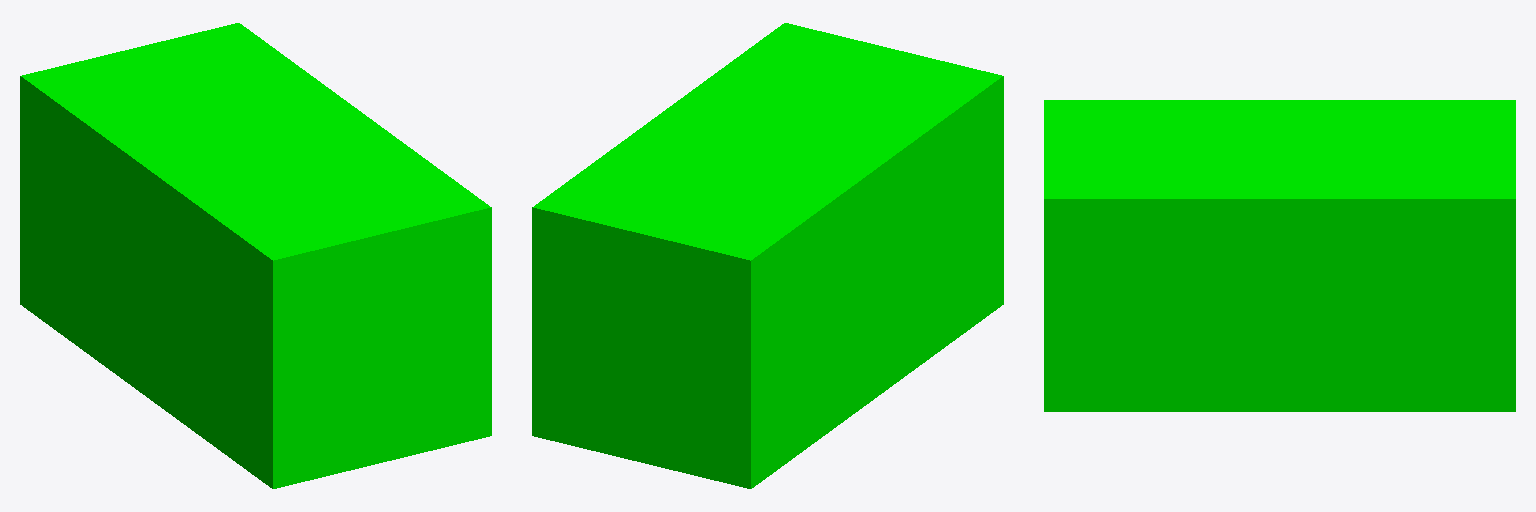
URDF robot description (dji_m100):
<?xml version='1.0' encoding='UTF-8'?>
<robot name="dji_m100">
  <link name="hab_m100_base_link">
    <inertial>
      <origin xyz="0.0 0.0 0.0" rpy="0.0 -0.0 0.0"/>
      <mass value="0.0"/>
      <inertia ixx="0.0" ixy="0.0" ixz="0.0" iyy="0.0" iyz="0.0" izz="0.0"/>
    </inertial>
  </link>
  <link name="m100_base_link">
    <inertial>
      <origin xyz="0.0 0.0 0.0" rpy="0.0 -0.0 0.0"/>
      <mass value="2.355"/>
      <inertia ixx="0.0368" ixy="0.0" ixz="0.0" iyy="0.0368" iyz="0.0" izz="0.06792"/>
    </inertial>
    <visual>
      <geometry>
        <mesh filename="../meshes/dji_m100.dae" scale="0.5 0.5 0.5"/>
      </geometry>
      <material name="mat_0_0"/>
      <origin xyz="0.0 0.0 0.0525" rpy="0.0 -0.0 0.0"/>
    </visual>
    <collision>
      <geometry>
        <mesh filename="../meshes/dji_m100.dae" scale="0.5 0.5 0.5"/>
      </geometry>
      <origin xyz="0.0 0.0 0.0525" rpy="0.0 -0.0 0.0"/>
    </collision>
  </link>
  <link name="led_link">
    <inertial>
      <origin xyz="0.0 0.0 0.0" rpy="0.0 -0.0 0.0"/>
      <mass value="0.001"/>
      <inertia ixx="0.0" ixy="0.0" ixz="0.0" iyy="0.0" iyz="0.0" izz="0.0"/>
    </inertial>
    <visual>
      <geometry>
        <box size="0.0125 0.0125 0.025 "/>
      </geometry>
      <material name="mat_1_0"/>
      <origin xyz="-0.05 0.0 0.05" rpy="0.0 -0.0 0.0"/>
    </visual>
    <collision>
      <geometry>
        <box size="0.0125 0.0125 0.0125"/>
      </geometry>
      <origin xyz="-0.05 0.0 0.05" rpy="0.0 -0.0 0.0"/>
    </collision>
  </link>
  <link name="veloydyne_base_link">
    <inertial>
      <origin xyz="0.0 0.0 0.01792" rpy="0.0 -0.0 0.0"/>
      <mass value="0.83"/>
      <inertia ixx="0.00035" ixy="0.0" ixz="0.0" iyy="0.00035" iyz="0.0" izz="0.00046"/>
    </inertial>
    <visual>
      <geometry>
        <mesh filename="../meshes/VLP16_base_1.dae" scale="0.5 0.5 0.5"/>
      </geometry>
      <material name="mat_2_0"/>
      <origin xyz="0.0 0.0 0.0" rpy="0.0 -0.0 0.0"/>
    </visual>
    <visual>
      <geometry>
        <mesh filename="../meshes/VLP16_base_2.dae" scale="0.5 0.5 0.5"/>
      </geometry>
      <material name="mat_2_1"/>
      <origin xyz="0.0 0.0 0.0" rpy="0.0 -0.0 0.0"/>
    </visual>
    <collision>
      <geometry>
        <cylinder radius="0.0258" length="0.01792"/>
      </geometry>
      <origin xyz="0.0 0.0 0.01792" rpy="0.0 -0.0 0.0"/>
    </collision>
  </link>
  <link name="veloydyne">
    <inertial>
      <origin xyz="0.0 0.0 0.0" rpy="0.0 -0.0 0.0"/>
      <mass value="0.01"/>
      <inertia ixx="0.0" ixy="0.0" ixz="0.0" iyy="0.0" iyz="0.0" izz="0.0"/>
    </inertial>
    <visual>
      <geometry>
        <mesh filename="../meshes/VLP16_scan.dae" scale="0.5 0.5 0.5"/>
      </geometry>
      <material name="mat_3_0"/>
      <origin xyz="0.0 0.0 -0.01885" rpy="0.0 -0.0 0.0"/>
    </visual>
    <collision>
      <geometry>
        <sphere radius="0.0"/>
      </geometry>
      <origin xyz="0.0 0.0 0.0" rpy="0.0 -0.0 0.0"/>
    </collision>
  </link>
  <link name="realsense_base_link">
    <inertial>
      <origin xyz="0.0 0.0 0.0" rpy="0.0 -0.0 0.0"/>
      <mass value="1.0"/>
      <inertia ixx="0.0" ixy="0.0" ixz="0.0" iyy="0.0" iyz="0.0" izz="0.0"/>
    </inertial>
  </link>
  <link name="realsense_camera">
    <inertial>
      <origin xyz="0.0 0.0 0.00625" rpy="0.0 -0.0 0.0"/>
      <mass value="0.072"/>
      <inertia ixx="1e-05" ixy="0.0" ixz="0.0" iyy="0.0" iyz="0.0" izz="1e-05"/>
    </inertial>
    <visual>
      <geometry>
        <mesh filename="../meshes/realsense_d435.dae" scale="0.0005 0.0005 0.0005"/>
      </geometry>
      <material name="mat_5_0"/>
      <origin xyz="0.0 0.0 0.00625" rpy="0.0 -0.0 0.0"/>
    </visual>
    <collision>
      <geometry>
        <box size="0.0125 0.0445 0.0125"/>
      </geometry>
      <origin xyz="0.0 0.0 0.00625" rpy="0.0 -0.0 0.0"/>
    </collision>
  </link>
  <link name="realsense_camera_parent">
    <inertial>
      <origin xyz="0.0 0.0 0.0" rpy="0.0 -0.0 0.0"/>
      <mass value="1.0"/>
      <inertia ixx="0.0" ixy="0.0" ixz="0.0" iyy="0.0" iyz="0.0" izz="0.0"/>
    </inertial>
  </link>
  <link name="realsense_depth_optical_frame">
    <inertial>
      <origin xyz="0.0 0.0 0.0" rpy="0.0 -0.0 0.0"/>
      <mass value="1.0"/>
      <inertia ixx="0.0" ixy="0.0" ixz="0.0" iyy="0.0" iyz="0.0" izz="0.0"/>
    </inertial>
  </link>
  <link name="head_camera">
    <inertial>
      <origin xyz="0.0 0.0 0.0" rpy="0.0 -0.0 0.0"/>
      <mass value="1.0"/>
      <inertia ixx="1.0" ixy="0.0" ixz="0.0" iyy="1.0" iyz="0.0" izz="1.0"/>
    </inertial>
  </link>
  <joint name="hab_m100_joint" type="fixed">
    <dynamics damping="1.0" friction="0.0001"/>
    <parent link="hab_m100_base_link"/>
    <child link="m100_base_link"/>
    <axis xyz="1. 0. 0."/>
    <origin xyz="0.0 0.0 0.0" rpy="-1.5708 0.0 0.0"/>
  </joint>
  <joint name="led_joint" type="fixed">
    <dynamics damping="1.0" friction="0.0001"/>
    <parent link="m100_base_link"/>
    <child link="led_link"/>
    <axis xyz="1. 0. 0."/>
    <origin xyz="0.0 0.0 0.0" rpy="0.0 -0.0 0.0"/>
  </joint>
  <joint name="veloydyne_base_mount_joint" type="fixed">
    <dynamics damping="1.0" friction="0.0001"/>
    <parent link="m100_base_link"/>
    <child link="veloydyne_base_link"/>
    <axis xyz="1. 0. 0."/>
    <origin xyz="0.0 0.0 0.11" rpy="0.0 -0.0 0.0"/>
  </joint>
  <joint name="veloydyne_base_scan_joint" type="fixed">
    <dynamics damping="1.0" friction="0.0001"/>
    <parent link="veloydyne_base_link"/>
    <child link="veloydyne"/>
    <axis xyz="1. 0. 0."/>
    <origin xyz="0.0 0.0 0.01885" rpy="0.0 -0.0 0.0"/>
  </joint>
  <joint name="realsense_base_mount_joint" type="fixed">
    <dynamics damping="1.0" friction="0.0001"/>
    <parent link="m100_base_link"/>
    <child link="realsense_base_link"/>
    <axis xyz="1. 0. 0."/>
    <origin xyz="0.0065 0.0 -0.01181" rpy="0.0 -0.0 0.0"/>
  </joint>
  <joint name="realsense_base_scan_joint" type="fixed">
    <dynamics damping="1.0" friction="0.0001"/>
    <parent link="realsense_base_link"/>
    <child link="realsense_camera"/>
    <axis xyz="1. 0. 0."/>
    <origin xyz="0.0 0.0 0.0325" rpy="0.0 0.2 0.0"/>
  </joint>
  <joint name="realsense_camera_to_camera_parent" type="fixed">
    <dynamics damping="1.0" friction="0.0001"/>
    <parent link="realsense_camera"/>
    <child link="realsense_camera_parent"/>
    <axis xyz="1. 0. 0."/>
    <origin xyz="0.01252 0.0075 0.00625" rpy="0.0 -0.0 0.0"/>
  </joint>
  <joint name="realsense_camera_parent_to_depth_optical_frame" type="fixed">
    <dynamics damping="1.0" friction="0.0001"/>
    <parent link="realsense_camera_parent"/>
    <child link="realsense_depth_optical_frame"/>
    <axis xyz="1. 0. 0."/>
    <origin xyz="0.0 0.0 0.0" rpy="-1.5708 -0.0 -1.5708"/>
  </joint>
  <joint name="head_joint" type="fixed">
    <parent link="hab_m100_base_link"/>
    <child link="head_camera"/>
    <axis xyz="1. 0. 0."/>
    <origin xyz="0.0 0.0 0.0" rpy="0.0 -0.0 0.0"/>
  </joint>
  <material name="mat_0_0">
    <color rgba="1. 1. 1. 1."/>
  </material>
  <material name="mat_1_0">
    <color rgba="0. 1. 0. 1."/>
  </material>
  <material name="mat_2_0">
    <color rgba="1. 1. 1. 1."/>
  </material>
  <material name="mat_2_1">
    <color rgba="1. 1. 1. 1."/>
  </material>
  <material name="mat_3_0">
    <color rgba="1. 1. 1. 1."/>
  </material>
  <material name="mat_5_0">
    <color rgba="1. 1. 1. 1."/>
  </material>
</robot>

--- Facts derived from the render (not from the file) ---
3 views of the same robot in one strip: view 1: azimuth 30°, elevation 25°; view 2: azimuth 150°, elevation 25°; view 3: azimuth 270°, elevation 25° (orthographic).
Model dji_m100 with 10 links and 9 joints (9 fixed), rooted at hab_m100_base_link, posed every joint at zero.
Visible links, largest first — view 1: led_link; view 2: led_link; view 3: led_link.
Boxes of the visible links, left/top/right/bottom form: led_link: left=20, top=23, right=491, bottom=488; led_link: left=532, top=23, right=1003, bottom=488; led_link: left=1044, top=100, right=1515, bottom=411.
Bounding box of the posed robot: 0.0125 × 0.025 × 0.0125 m (x, y, z).
0 mesh visuals loaded from 5 distinct referenced files (none loaded); not drawn: 5 (reference not matched to a file when rendering).